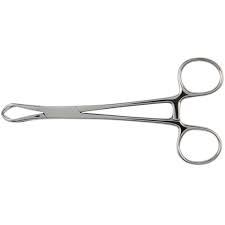Lane Tissue Forceps: (3, 53, 225, 164)
